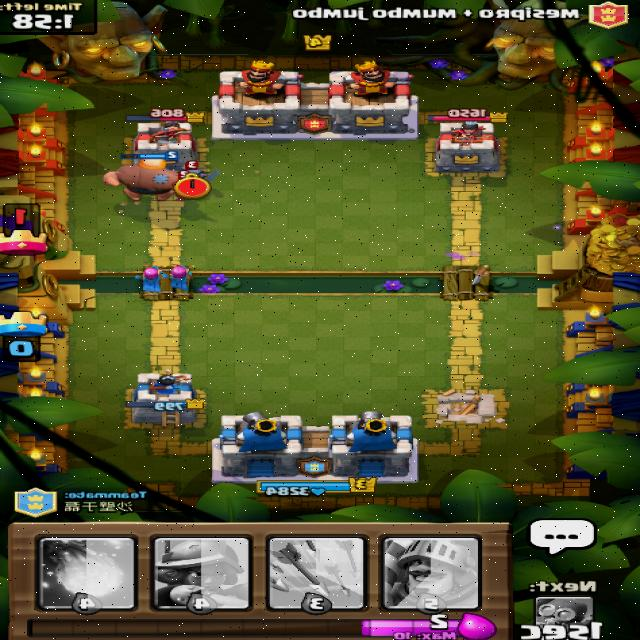Enemy-MiniPEKKA: (185, 160, 219, 178)
Player-Archer: (134, 264, 166, 292), (166, 261, 196, 290)
Player-Giant: (103, 149, 181, 202)
